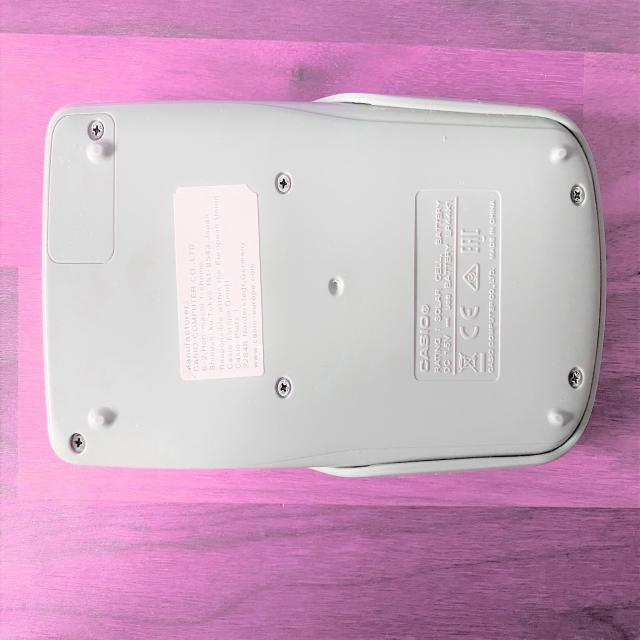PhillipsScrewHead: (88, 120, 104, 140), (276, 173, 291, 194), (568, 369, 583, 388), (72, 434, 85, 453), (278, 378, 290, 398), (571, 186, 584, 203)
